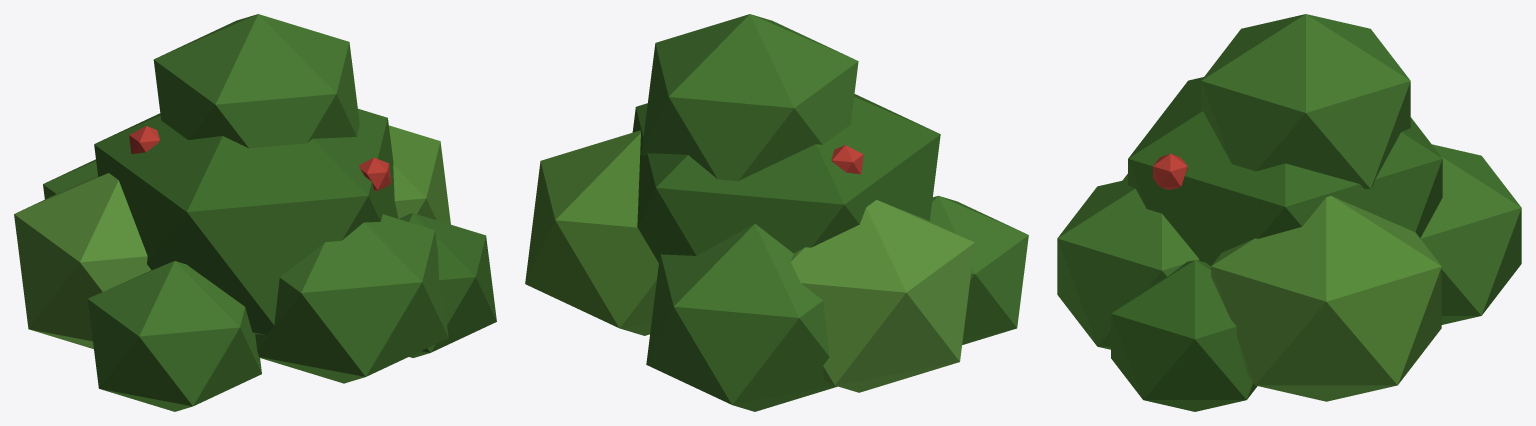
File: bush.glb
3 renders of one model, left to right at view 1: azimuth 30°, elevation 25°; view 2: azimuth 150°, elevation 25°; view 3: azimuth 270°, elevation 25°, orthographic. The views are drawn at different scales.
Parts seen in each view (by area): view 1: Bush; view 2: Bush; view 3: Bush.
Boxes of the visible parts, x1,y1,x2,y2 form: Bush: (14,14,496,411); Bush: (525,14,1028,411); Bush: (1057,14,1521,411).
Size of the model in its own units: 1.2 by 0.93 by 1.13.
